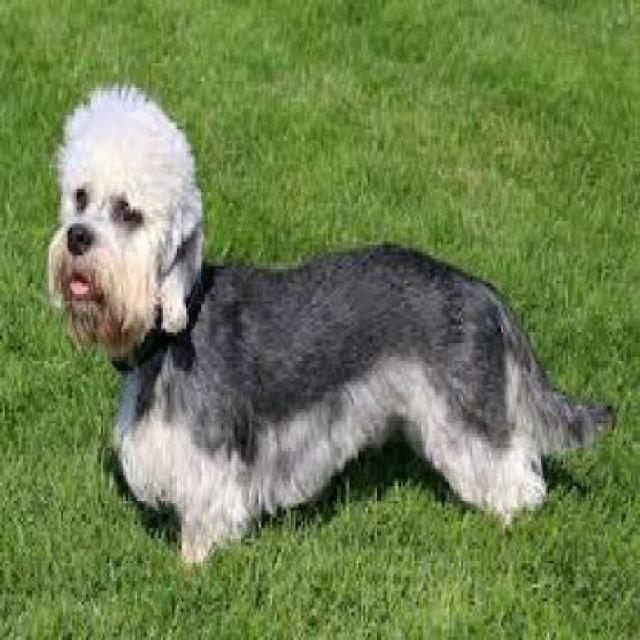animals: (39, 72, 618, 562)
